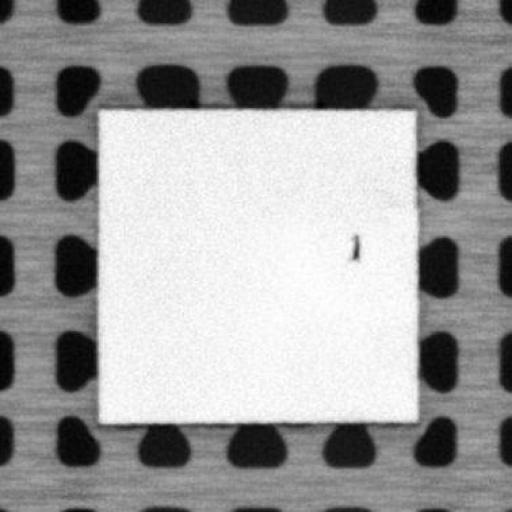DIE_INK: (346, 231, 362, 258)
